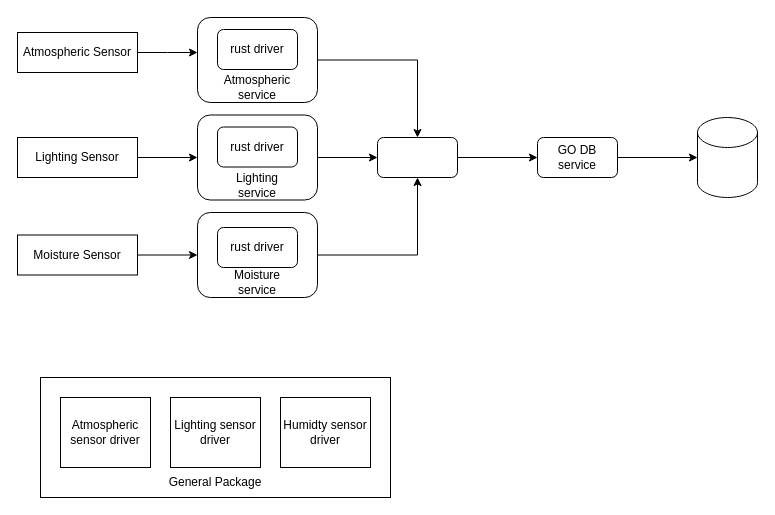
Some shapes in this 775 by 515 pixel diagram are drawn without their labels. Here are the shapes that lost their labels. From the top down, the centre of each, then its label:
point (417, 157): broker
point (727, 157): TSDB
